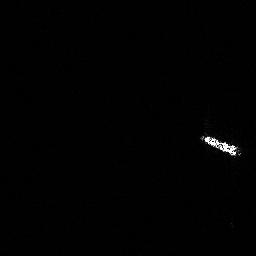ship: (197, 131, 245, 160)
